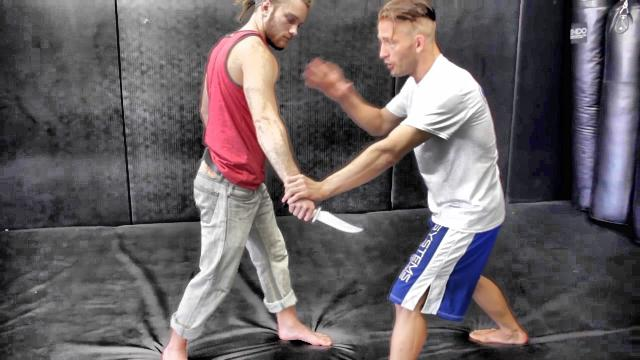knife: (281, 198, 367, 238)
